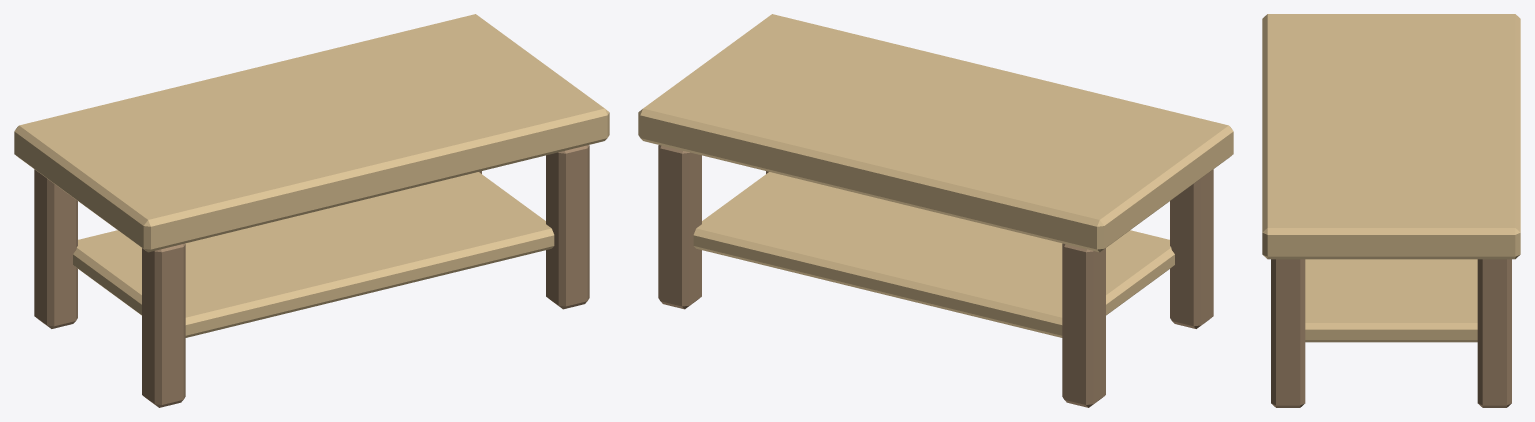
3 views of the same model, side by side, from view 1: azimuth 30°, elevation 25°; view 2: azimuth 150°, elevation 25°; view 3: azimuth 270°, elevation 25° (orthographic). The views are drawn at different scales.
Visible parts, largest first — view 1: 桌面, 搁板, 桌腿; view 2: 桌面, 搁板, 桌腿; view 3: 桌面, 搁板, 桌腿.
Boxes of the visible parts, left/top/right/bottom form: 桌面: left=14, top=14, right=609, bottom=252; 搁板: left=73, top=172, right=554, bottom=337; 桌腿: left=34, top=145, right=589, bottom=407; 桌面: left=638, top=14, right=1233, bottom=252; 搁板: left=693, top=172, right=1174, bottom=337; 桌腿: left=658, top=145, right=1213, bottom=407; 桌面: left=1262, top=14, right=1520, bottom=259; 搁板: left=1305, top=259, right=1477, bottom=342; 桌腿: left=1271, top=259, right=1511, bottom=407.
Size of the model in its own units: 120 by 48 by 60.
